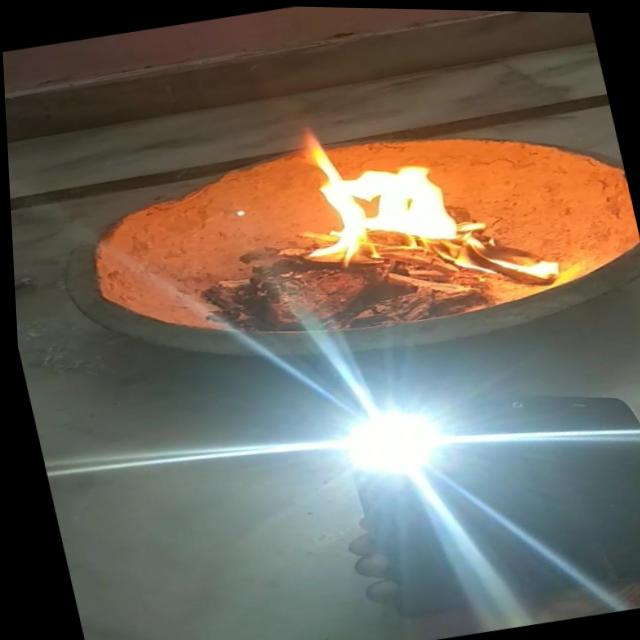fire: (266, 104, 475, 272), (486, 241, 569, 287)
